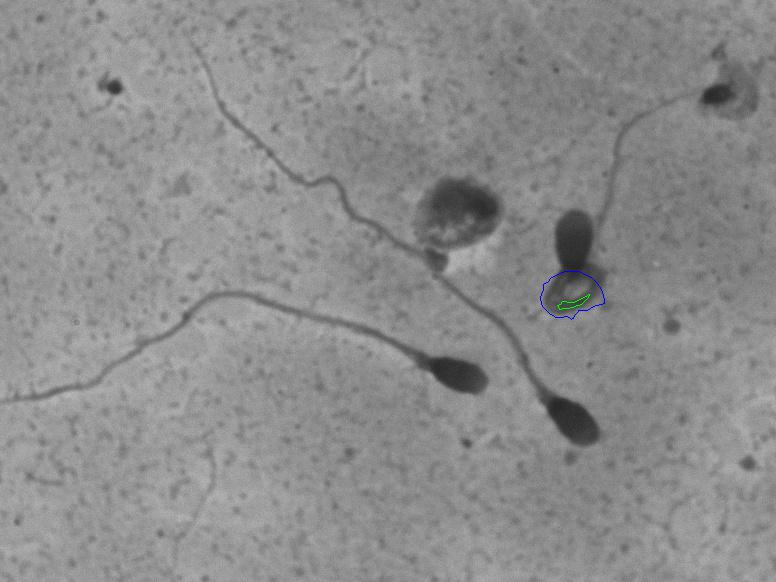Abnormal: (532, 70, 694, 326)
Normal: (165, 22, 616, 463), (6, 265, 498, 417)
